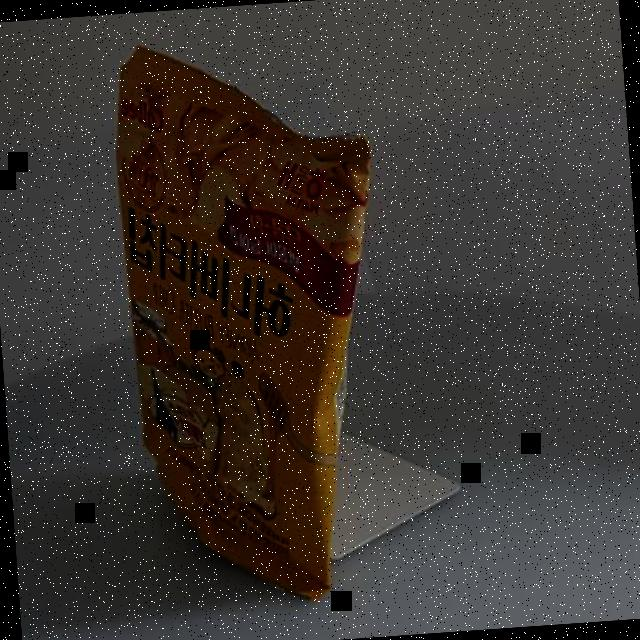snack_bag: (84, 19, 412, 622)
